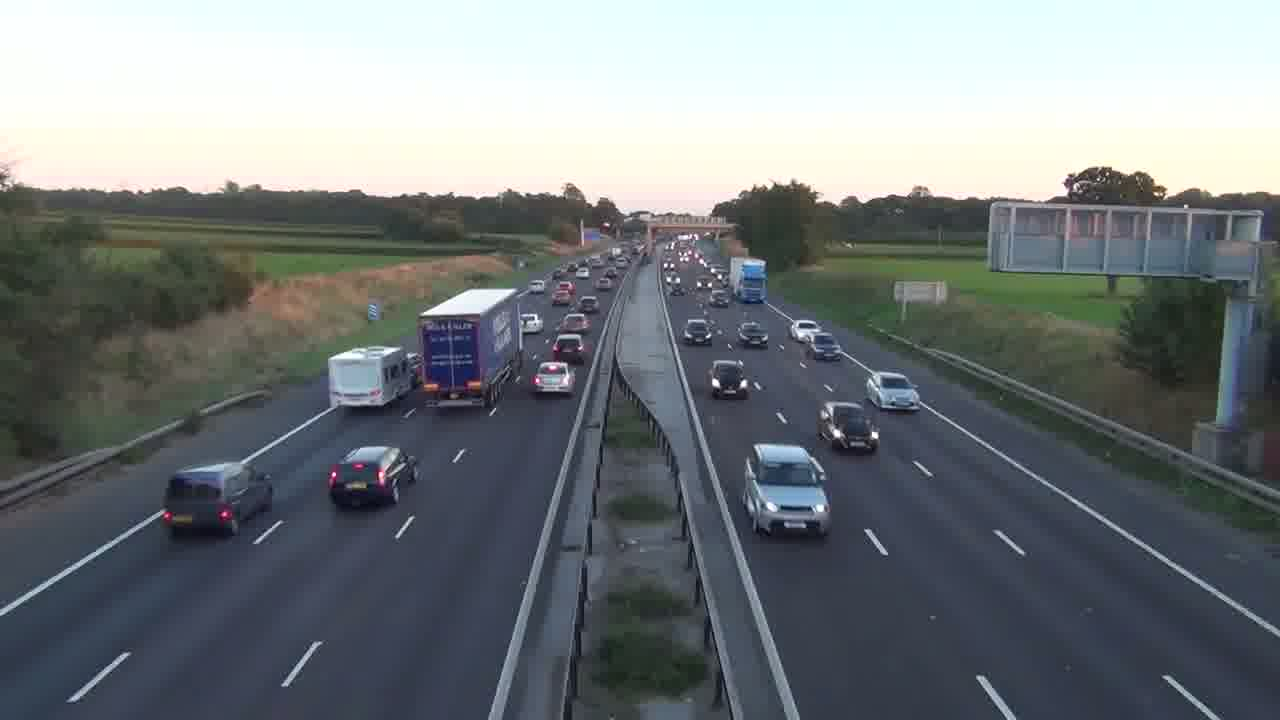car: (742, 442, 832, 537), (327, 444, 419, 509), (817, 400, 880, 454), (863, 370, 920, 411), (530, 360, 577, 398), (708, 359, 749, 399), (552, 333, 587, 366), (736, 320, 769, 349), (681, 318, 713, 346)
truck: (417, 286, 524, 407), (160, 459, 275, 537), (328, 344, 420, 408)
